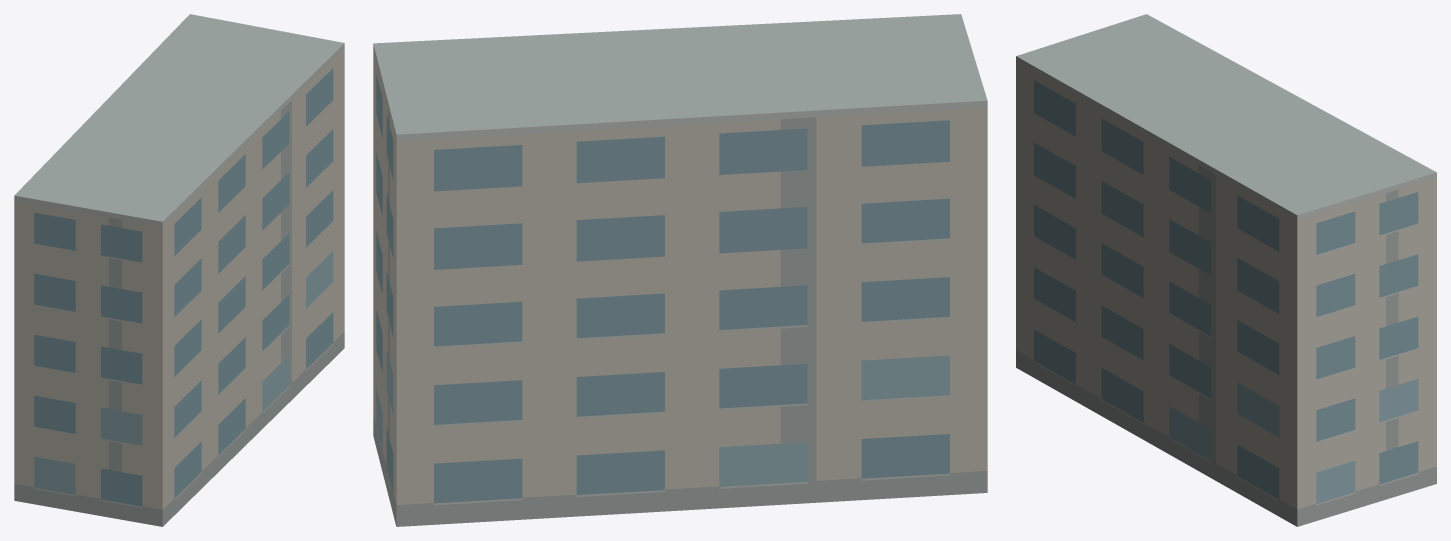
File: survey-upis-32795599.glb
3 renders of one model, left to right at view 1: azimuth 30°, elevation 25°; view 2: azimuth 150°, elevation 25°; view 3: azimuth 270°, elevation 25°, orthographic. The views are drawn at different scales.
Visible parts, largest first — view 1: survey-upis-32795599.tmp; view 2: survey-upis-32795599.tmp; view 3: survey-upis-32795599.tmp.
Part boxes in pixels (bbox=[...]): survey-upis-32795599.tmp: bbox=[14, 14, 344, 526]; survey-upis-32795599.tmp: bbox=[373, 14, 987, 526]; survey-upis-32795599.tmp: bbox=[1016, 14, 1436, 526].
Bounding box in the file's own units: 19.9 × 14.35 × 17.57.
